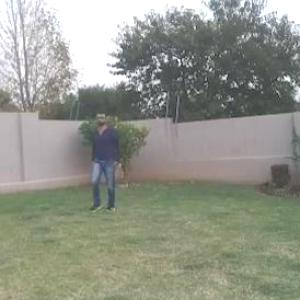follow: (86, 110, 122, 222)
